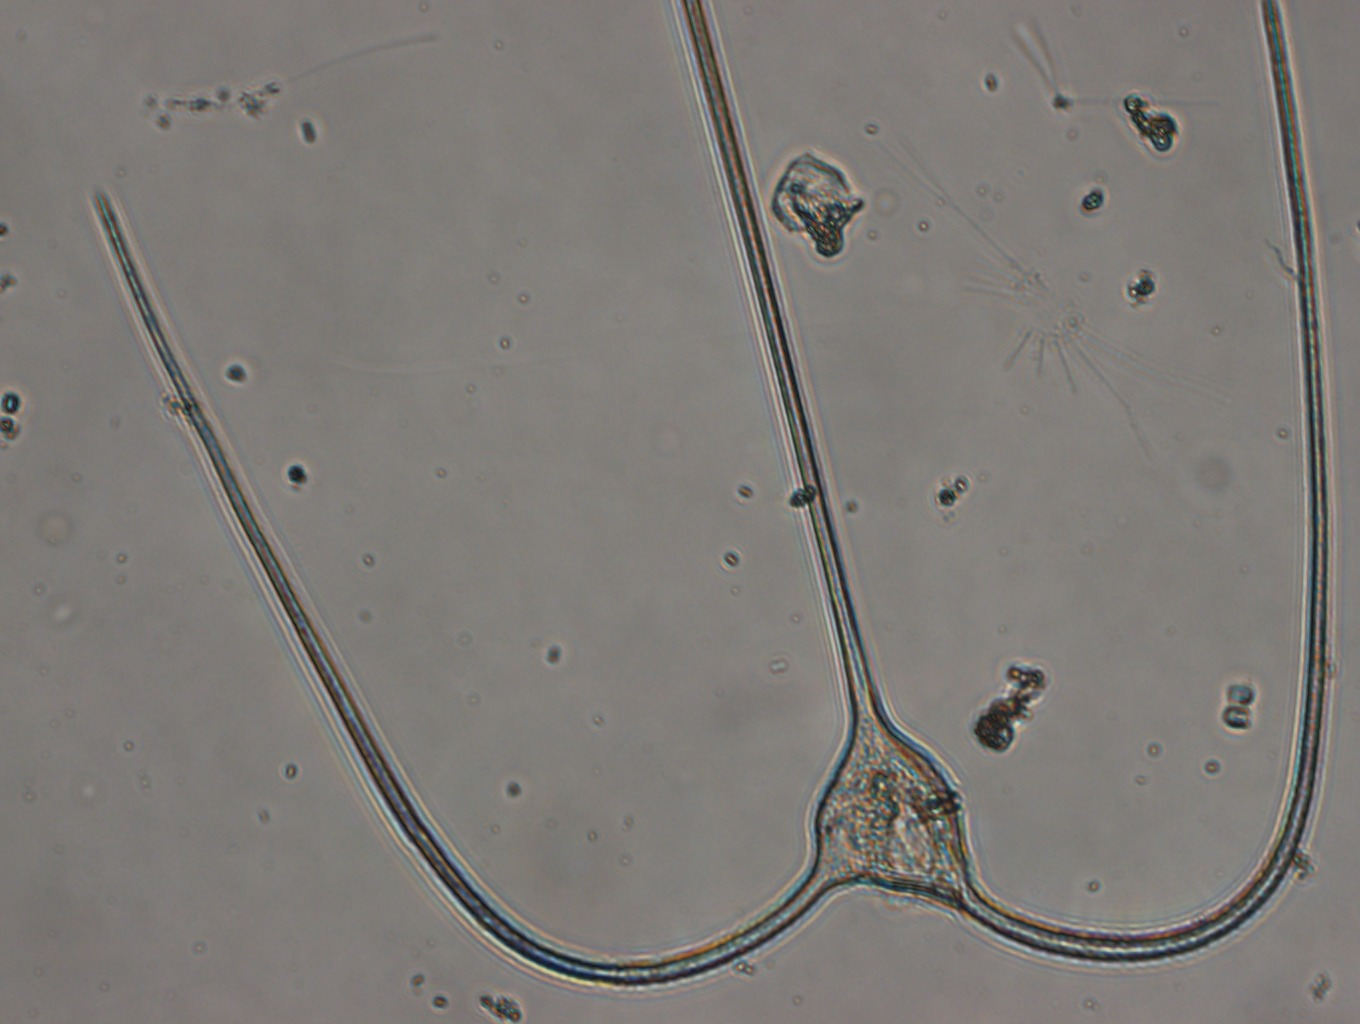ceratium trichoceros: (73, 4, 1360, 999)
